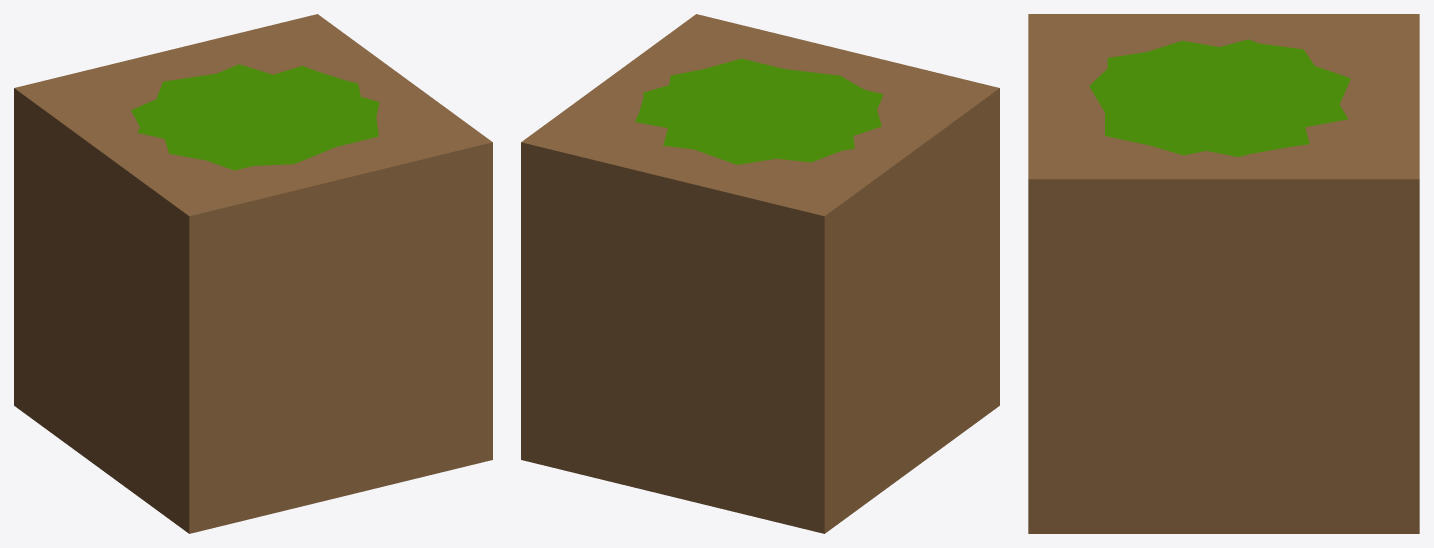
Rendered from RPG_Tiles_Square_Covered_Patch_01.FBX.
The picture shows the model from 3 angles, left to right: view 1: azimuth 30°, elevation 25°; view 2: azimuth 150°, elevation 25°; view 3: azimuth 270°, elevation 25°; orthographic projection. The views are drawn at different scales.
Parts seen in each view (by area): view 1: RPG_Tiles_Square_Covered_Patch_01; view 2: RPG_Tiles_Square_Covered_Patch_01; view 3: RPG_Tiles_Square_Covered_Patch_01.
Boxes of the visible parts, left/top/right/bottom form: RPG_Tiles_Square_Covered_Patch_01: left=14, top=14, right=492, bottom=533; RPG_Tiles_Square_Covered_Patch_01: left=521, top=14, right=999, bottom=533; RPG_Tiles_Square_Covered_Patch_01: left=1028, top=14, right=1419, bottom=533.
Size of the model in its own units: 3000 by 3000 by 3000.
